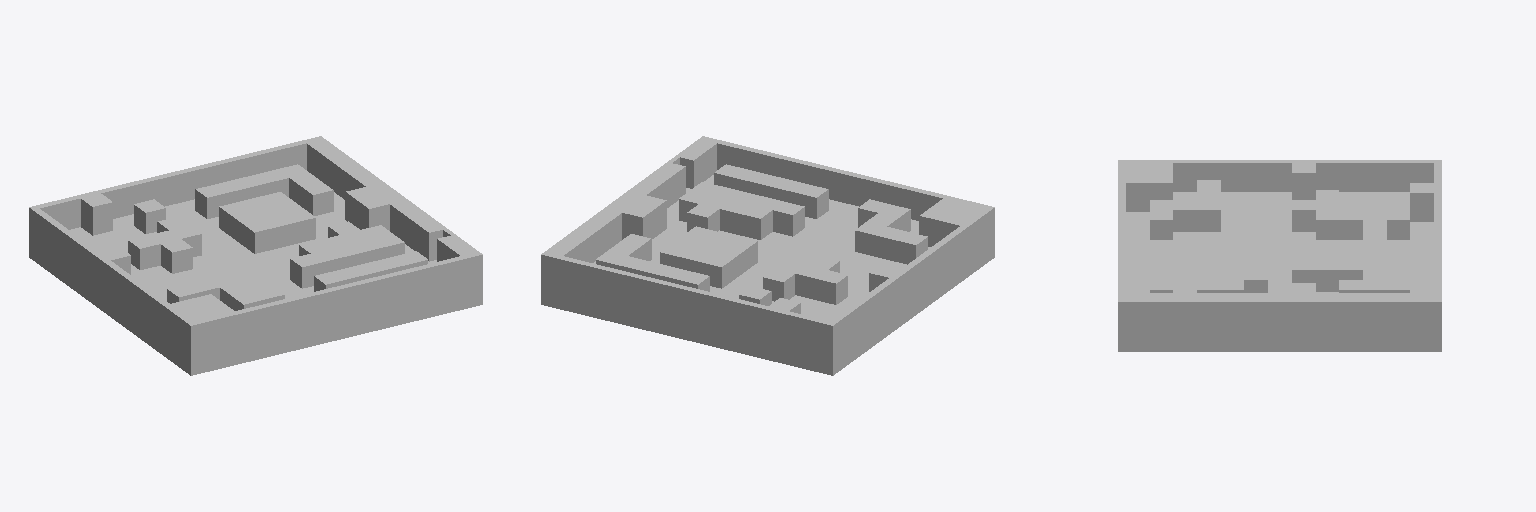
The model's file is maze_roofless.obj.
3 views of the same model, side by side, from view 1: azimuth 30°, elevation 25°; view 2: azimuth 150°, elevation 25°; view 3: azimuth 270°, elevation 25° (orthographic).
Visible parts, largest first — view 1: object 1; view 2: object 1; view 3: object 1.
Part boxes in pixels (bbox=[...]): object 1: bbox=[29, 136, 482, 375]; object 1: bbox=[541, 136, 994, 375]; object 1: bbox=[1118, 160, 1441, 351].
Size of the model in its own units: 25.6 by 4.2 by 24.6.